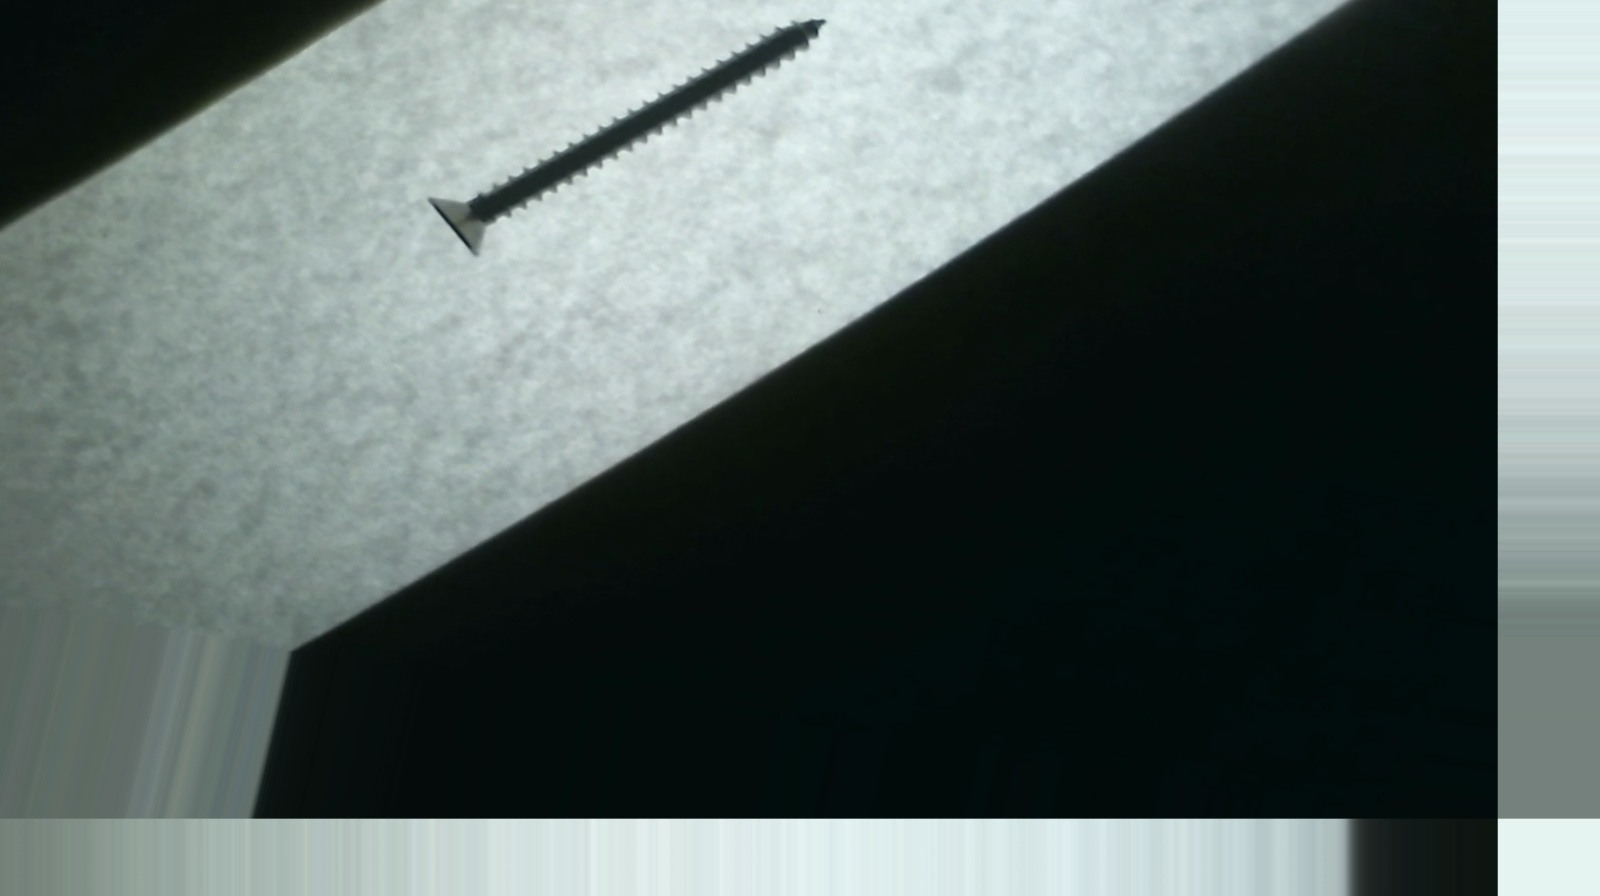S002: (386, 0, 849, 311)
